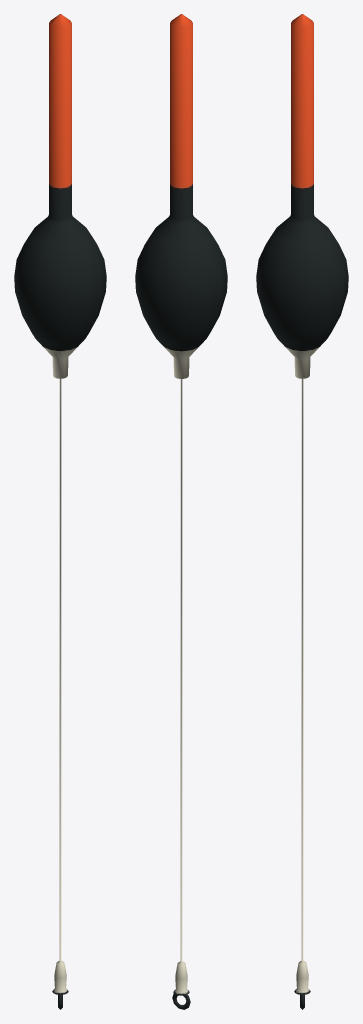
The picture shows the model from 3 angles, left to right: view 1: azimuth 90°, elevation 25°; view 2: azimuth 150°, elevation 25°; view 3: azimuth 270°, elevation 25°; orthographic projection.
Parts seen in each view (by area): view 1: F27_Float; view 2: F27_Float; view 3: F27_Float.
Boxes of the visible parts, <box> form: F27_Float: <box>14,14,106,1009</box>; F27_Float: <box>135,14,227,1009</box>; F27_Float: <box>256,14,348,1009</box>.
Size of the model in its own units: 1.69 by 20 by 1.69.
Materials: 1 (1 with a texture image).
